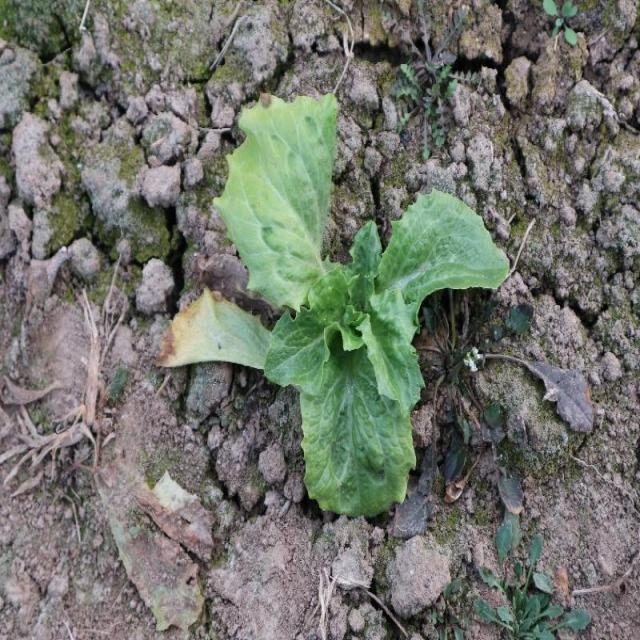crop: (169, 91, 512, 518)
